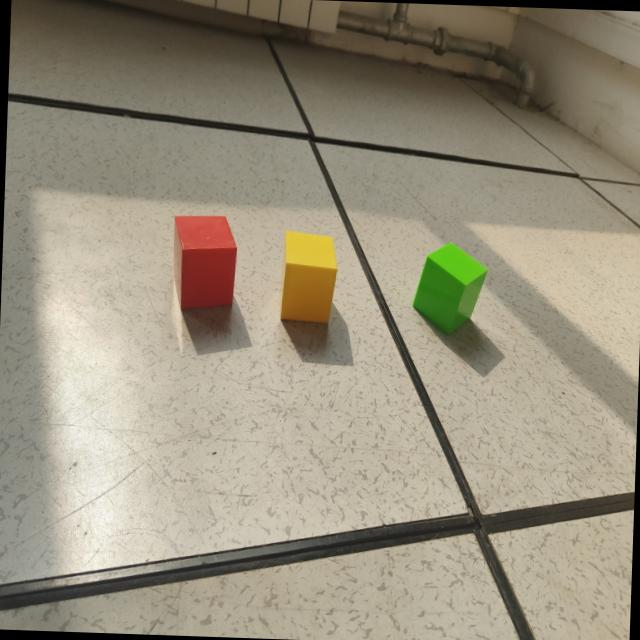green: (412, 245, 488, 338)
red: (173, 216, 237, 315)
yellow: (280, 232, 337, 327)
